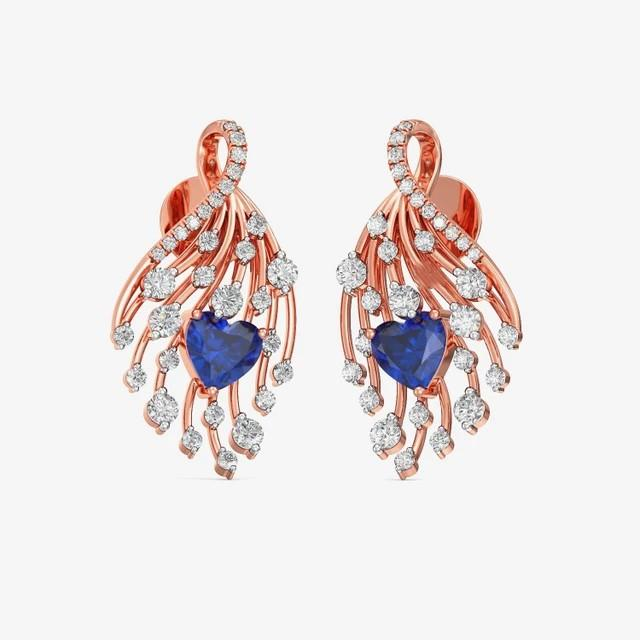missing gem: (415, 261, 440, 287)
